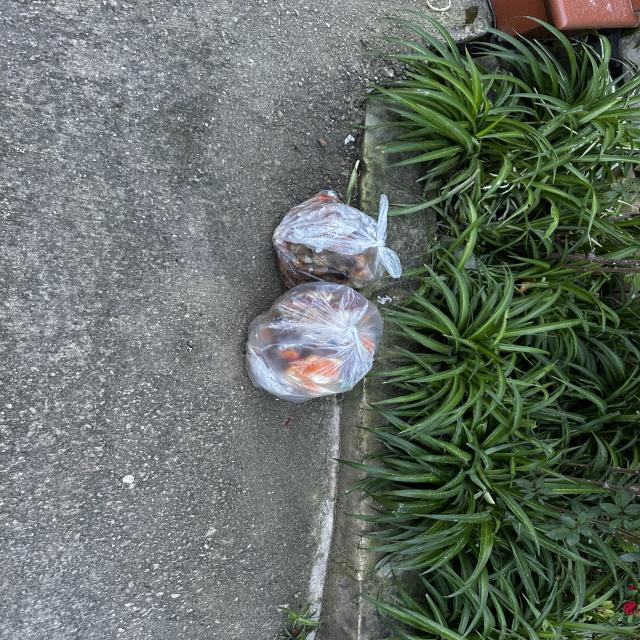Organic Waste -White Bags-: (245, 190, 402, 403)
